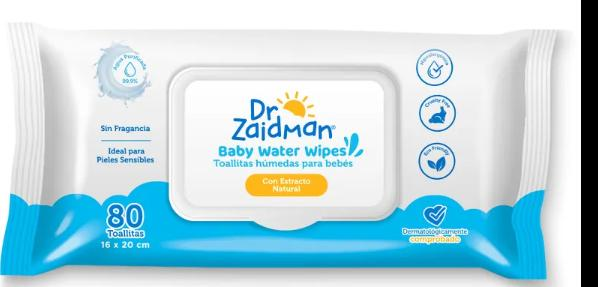brand: (221, 97, 337, 143)
net_weight: (96, 193, 156, 240)
product_name: (214, 146, 351, 160)
